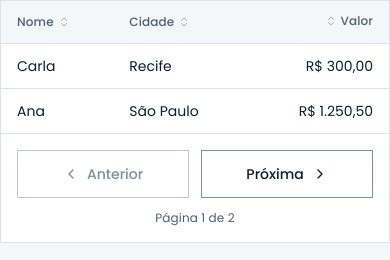
Scenario: Table › remoto: ordenar troca a lista pela resposta simulada e volta para a primeira página
Click the button "Próxima": (287, 174) [201, 150, 373, 198]
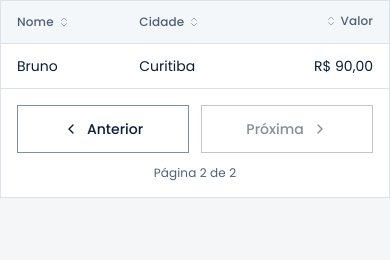
Click the button "Nome": (43, 22) [17, 14, 70, 30]
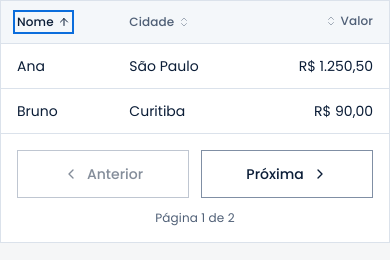
Expected: the text "Página 1 de 2" is shown, [155, 209, 235, 226]
